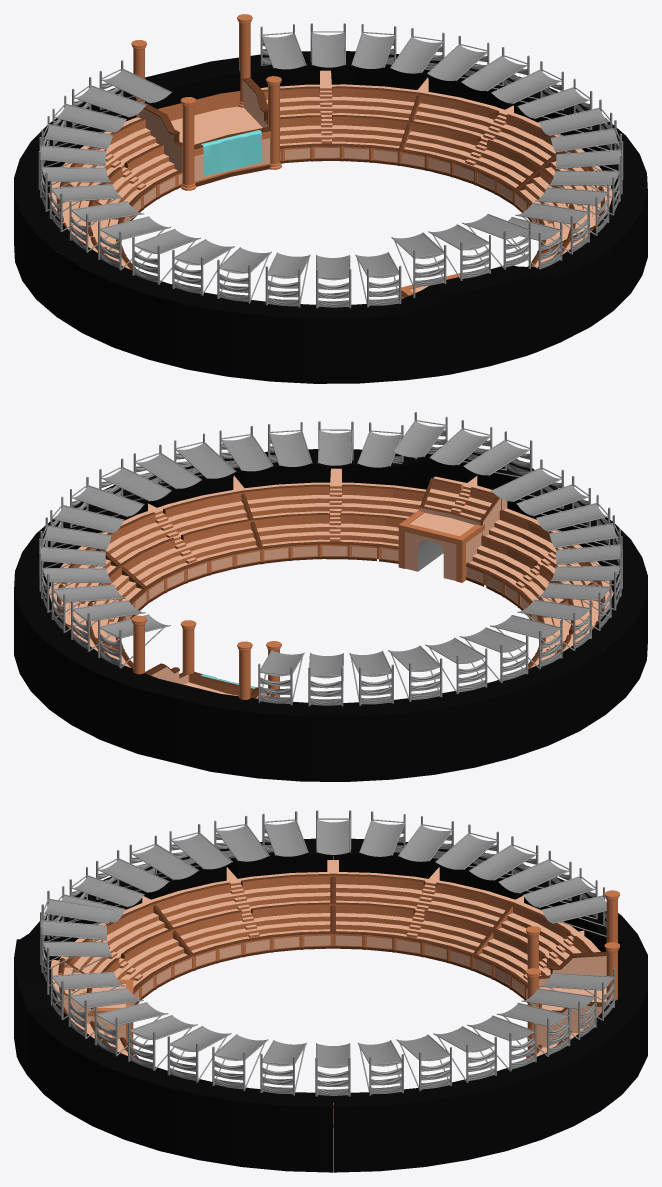
The model's file is Arena.FBX.
The picture shows the model from 3 angles, top to bottom: view 1: azimuth 30°, elevation 25°; view 2: azimuth 150°, elevation 25°; view 3: azimuth 270°, elevation 25°; orthographic projection.
Parts seen in each view (by area): view 1: Arena_1, Arena_2, TribuneOpposite, GodTribune, Column_1, GodCloth, Column_2, Plane267, Plane271, Plane263, Plane259, Plane255 (+28 smaller); view 2: Arena_1, Arena_2, TribuneOpposite, Corridor, Column_2, GodTribune, Plane219, Plane223, Plane215, Plane227, Plane211, Plane231 (+29 smaller); view 3: Arena_1, Arena_2, TribuneOpposite, GodTribune, Column_2, Plane171, Column_1, Plane167, Plane175, Plane179, Plane163, Plane183 (+30 smaller).
Boxes of the visible parts, x1,y1,x2,y2 form: Arena_1: (14, 51, 589, 316); Arena_2: (56, 118, 647, 383); TribuneOpposite: (397, 265, 562, 380); GodTribune: (139, 77, 271, 186); Column_1: (180, 76, 281, 190); GodCloth: (201, 130, 262, 175); Column_2: (131, 14, 252, 117); Plane267: (312, 33, 344, 67); Plane271: (263, 33, 305, 69); Plane263: (352, 33, 393, 68); Plane259: (391, 37, 441, 73); Plane255: (428, 45, 485, 80); Arena_1: (14, 516, 605, 781); Arena_2: (73, 449, 647, 714); TribuneOpposite: (379, 446, 558, 586); Corridor: (398, 510, 484, 582); Column_2: (131, 615, 252, 699); GodTribune: (145, 663, 275, 698); Plane219: (319, 431, 351, 465); Plane223: (270, 431, 310, 466); Plane215: (358, 432, 400, 467); Plane227: (222, 435, 272, 471); Plane211: (394, 421, 444, 457); Plane231: (177, 443, 234, 478); Arena_1: (330, 838, 647, 1172); Arena_2: (28, 838, 335, 1172); TribuneOpposite: (14, 934, 127, 1075); GodTribune: (537, 951, 606, 1047); Column_2: (604, 890, 619, 1001); Plane171: (317, 820, 349, 854); Column_1: (526, 926, 540, 1058); Plane167: (360, 821, 403, 856); Plane175: (265, 821, 307, 856); Plane179: (217, 825, 268, 861); Plane163: (399, 826, 450, 861); Plane183: (173, 833, 231, 869).
Bounding box in the file's own units: 2953 × 607 × 2941.
